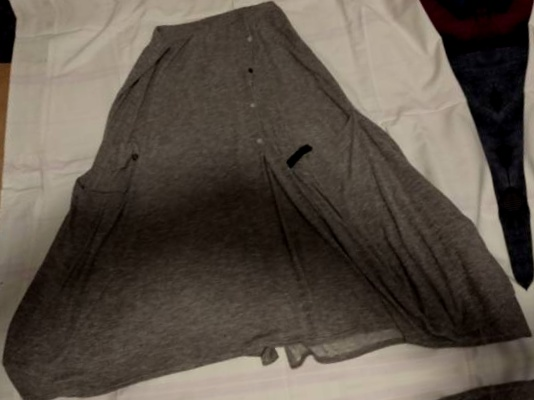Dress: (0, 0, 504, 400), (21, 379, 534, 400), (506, 0, 534, 336), (0, 0, 438, 11)
